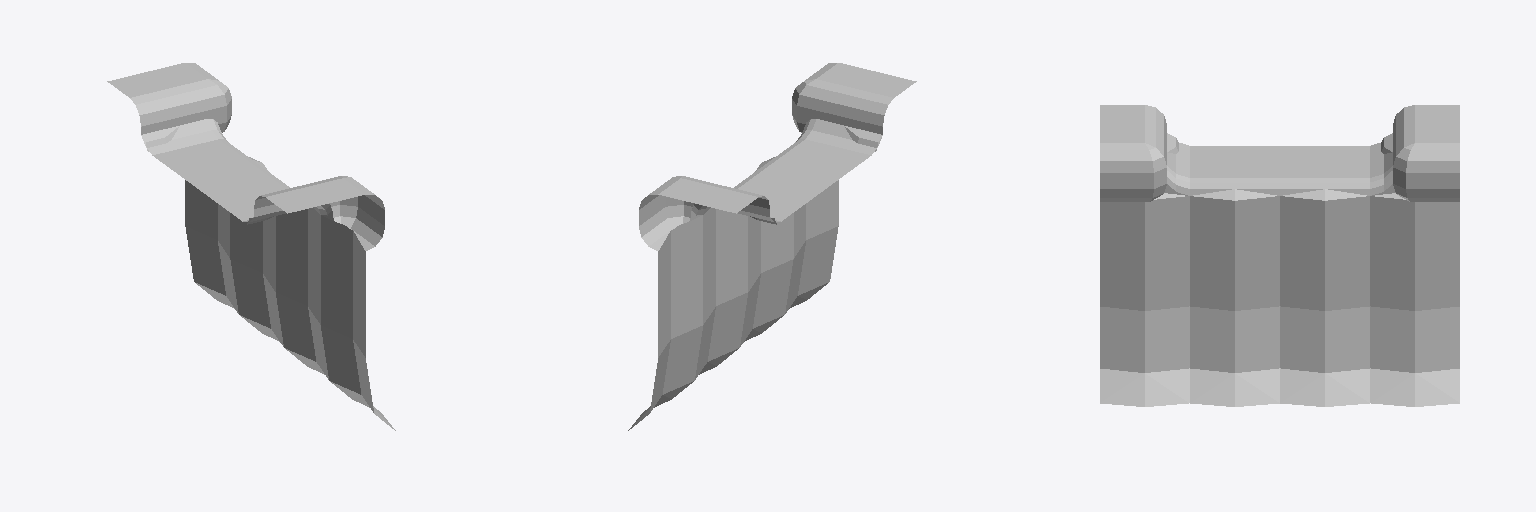
File: Track_Cliff_Edge_Striped_3_Tall_Double.obj
The picture shows the model from 3 angles: view 1: azimuth 30°, elevation 25°; view 2: azimuth 150°, elevation 25°; view 3: azimuth 270°, elevation 25°; orthographic projection.
Parts seen in each view (by area): view 1: Rock, Grass, Dirt; view 2: Rock, Grass, Dirt; view 3: Rock, Grass, Dirt.
Part boxes in pixels (x1,y1,x2,y2): Rock: (185,157,395,430); Grass: (107,63,384,250); Dirt: (142,119,334,221); Rock: (628,157,838,430); Grass: (639,63,916,250); Dirt: (689,119,881,221); Rock: (1100,189,1459,406); Grass: (1100,105,1459,201); Dirt: (1164,143,1395,195).
Size of the model in its own units: 1.5 by 3 by 4.